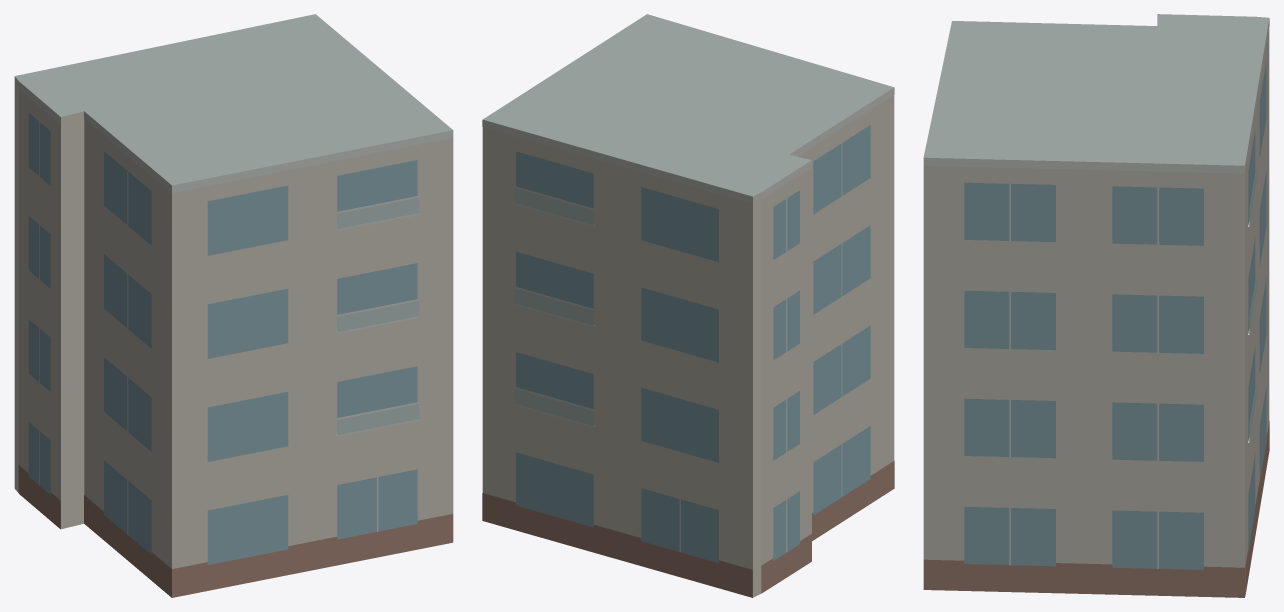
Rendered from survey-upis-32472341.glb.
3 views of the same model, side by side, from view 1: azimuth 30°, elevation 25°; view 2: azimuth 150°, elevation 25°; view 3: azimuth 270°, elevation 25° (orthographic). The views are drawn at different scales.
Visible parts, largest first — view 1: survey-upis-32472341.tmp; view 2: survey-upis-32472341.tmp; view 3: survey-upis-32472341.tmp.
Boxes of the visible parts, x1,y1,x2,y2 form: survey-upis-32472341.tmp: (14,14,453,597); survey-upis-32472341.tmp: (482,14,894,597); survey-upis-32472341.tmp: (923,14,1269,597).
Bounding box in the file's own units: 9.87 × 13.1 × 9.52.
